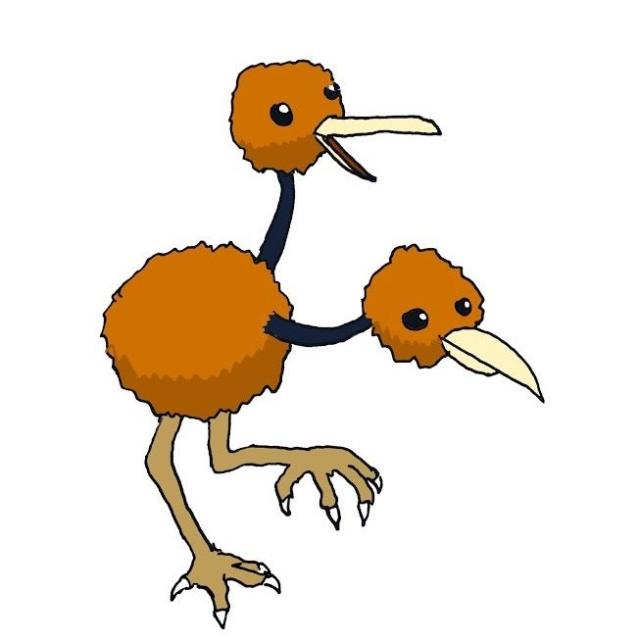Doduo: (100, 52, 552, 620)
